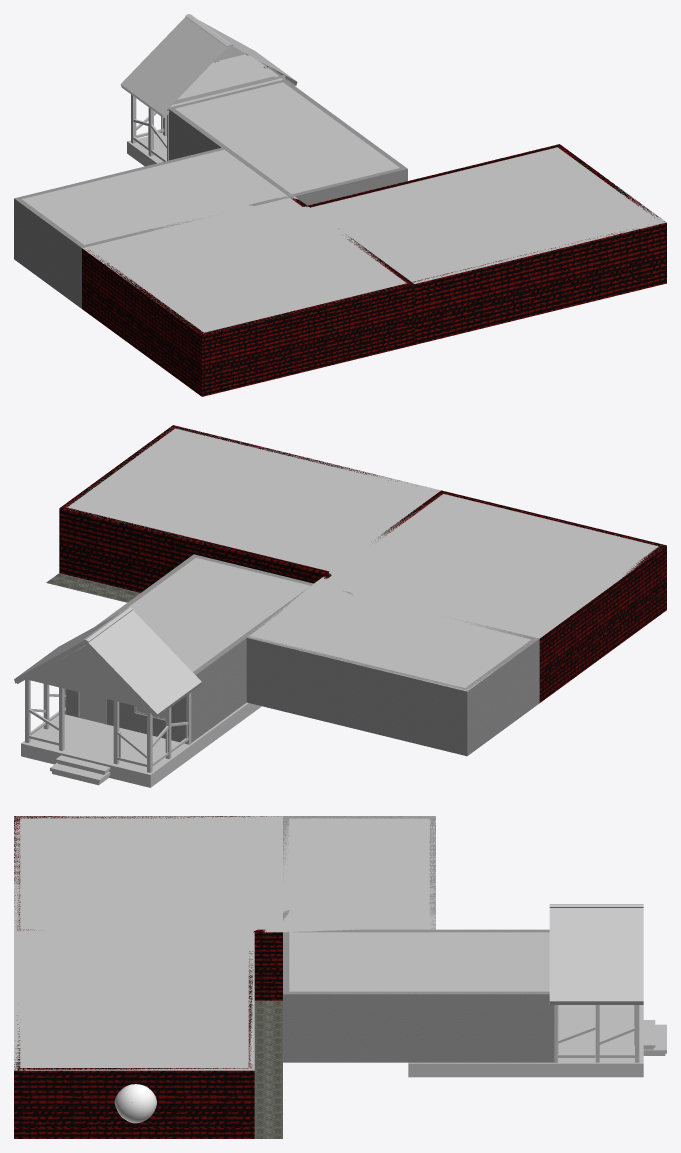
3 renders of one model, top to bottom at view 1: azimuth 30°, elevation 25°; view 2: azimuth 150°, elevation 25°; view 3: azimuth 270°, elevation 25°, orthographic. The views are drawn at different scales.
Parts seen in each view (by area): view 1: Line003, Rectangle023, Rectangle024, House_D_006, Rectangle022, Rectangle021; view 2: Line003, House_D_006, Rectangle022, Rectangle024, Rectangle023, Rectangle021, Box028, Rectangle025, Object069; view 3: Line003, Rectangle021, House_D_006, Rectangle024, Rectangle025, Rectangle023, Rectangle022, Object_36.
Boxes of the visible parts, x1,y1,x2,y2 form: Line003: (22,82,666,333); Rectangle023: (82,197,414,396); Rectangle024: (307,144,666,344); House_D_006: (120,14,297,166); Rectangle022: (14,147,289,308); Rectangle021: (170,81,407,205); Line003: (66,427,658,691); House_D_006: (14,607,261,787); Rectangle022: (246,590,539,756); Rectangle024: (59,425,417,592); Rectangle023: (323,490,666,702); Rectangle021: (95,554,313,742); Box028: (66,651,191,743); Rectangle025: (46,573,140,602); Object069: (79,692,105,723); Line003: (14,816,549,1070); Rectangle021: (283,929,551,1062); House_D_006: (408,904,666,1077); Rectangle024: (14,951,254,1138); Rectangle025: (254,1000,282,1138); Rectangle023: (14,816,282,1000); Rectangle022: (283,816,435,929); Object_36: (114,1084,156,1123).
Size of the model in its own units: 883 by 220 by 931.
